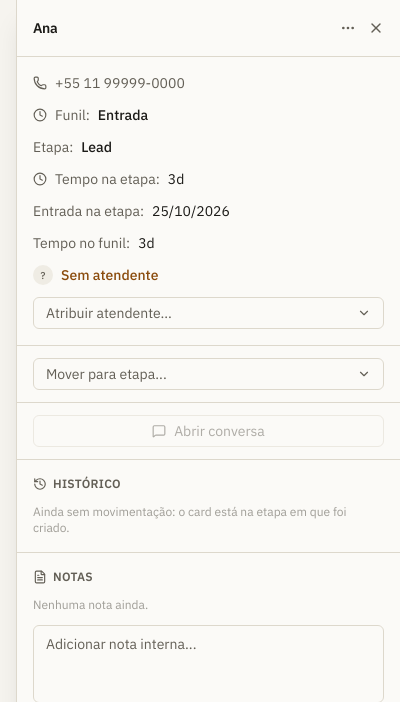
Scenario: B48-19 — Telas menos carregadas › CA-B48-48: should manter o painel aberto ao mover, com a etapa nova e o histórico atualizado
The image size is (400, 702).
Check: the text "Ainda sem movimentação" is shown, box [33,504,346,535]
Click the button "Mover para etapa...": (106, 374) [33,358,384,390]
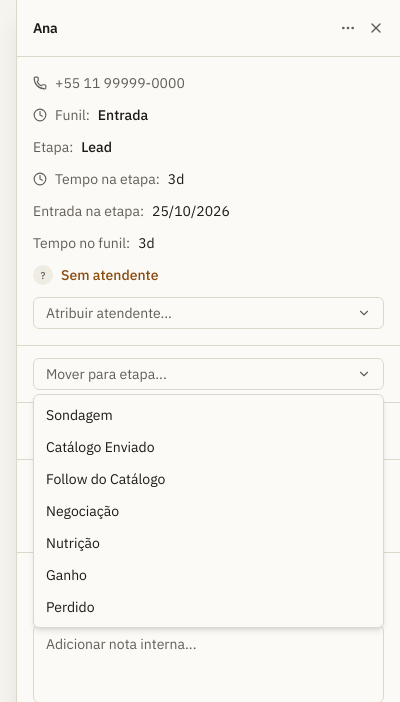
Click the button "Sondagem": (79, 415) [34,399,383,431]
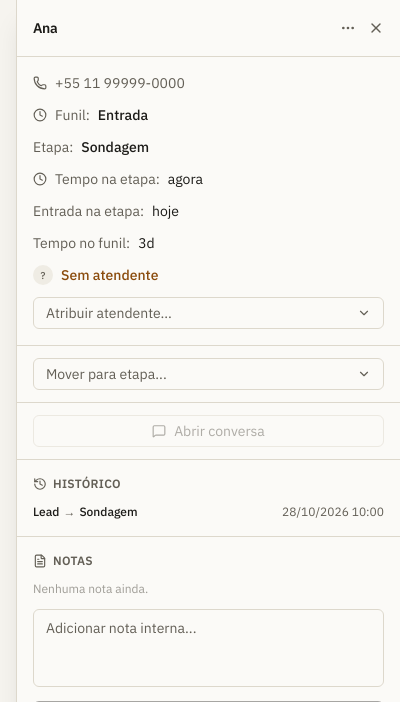
Check: the text "→" is shown, box [63,504,75,520]
Check: the text "Sondagem" below "+55 11 99999-0000" is shown, box [81,138,149,156]
Check: the text "Ainda sem movimentação" is gone
